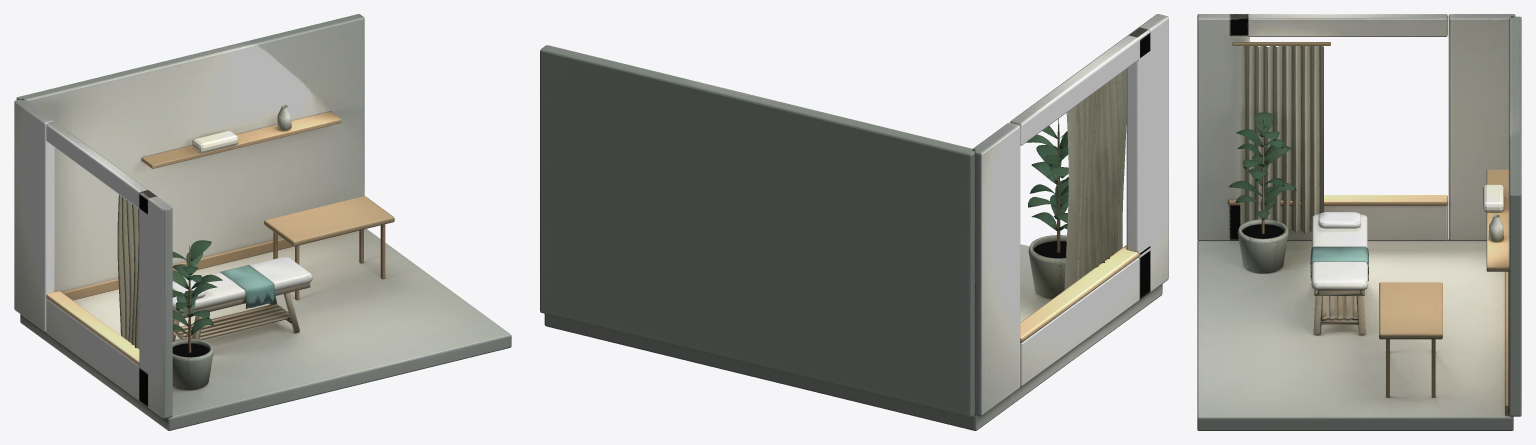
File: sala.low.glb
3 views of the same model, side by side, from view 1: azimuth 30°, elevation 25°; view 2: azimuth 150°, elevation 25°; view 3: azimuth 270°, elevation 25° (orthographic). The views are drawn at different scales.
Parts seen in each view (by area): view 1: Sala_camilla, Cortina_lino; view 2: Sala_camilla, Cortina_lino; view 3: Sala_camilla, Cortina_lino.
Boxes of the visible parts, box(x1,y1,x2,y2) form: Sala_camilla: box(14, 14, 511, 430); Cortina_lino: box(117, 194, 139, 348); Sala_camilla: box(540, 14, 1168, 430); Cortina_lino: box(1064, 69, 1126, 289); Sala_camilla: box(1197, 14, 1521, 430); Cortina_lino: box(1240, 46, 1323, 233).
Size of the model in its own units: 4.87 by 2.98 by 3.69.
1 material, 1 textured.
